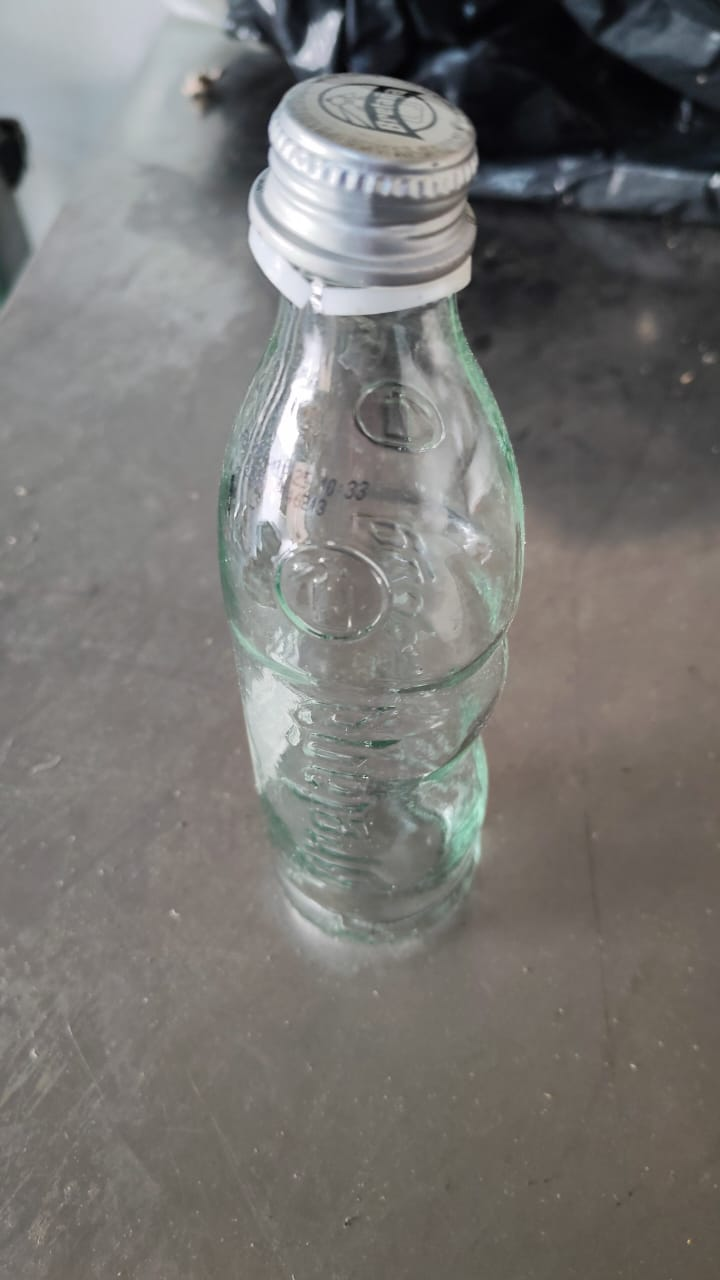Metal: (243, 71, 478, 291)
Vidrio: (216, 303, 523, 950)
